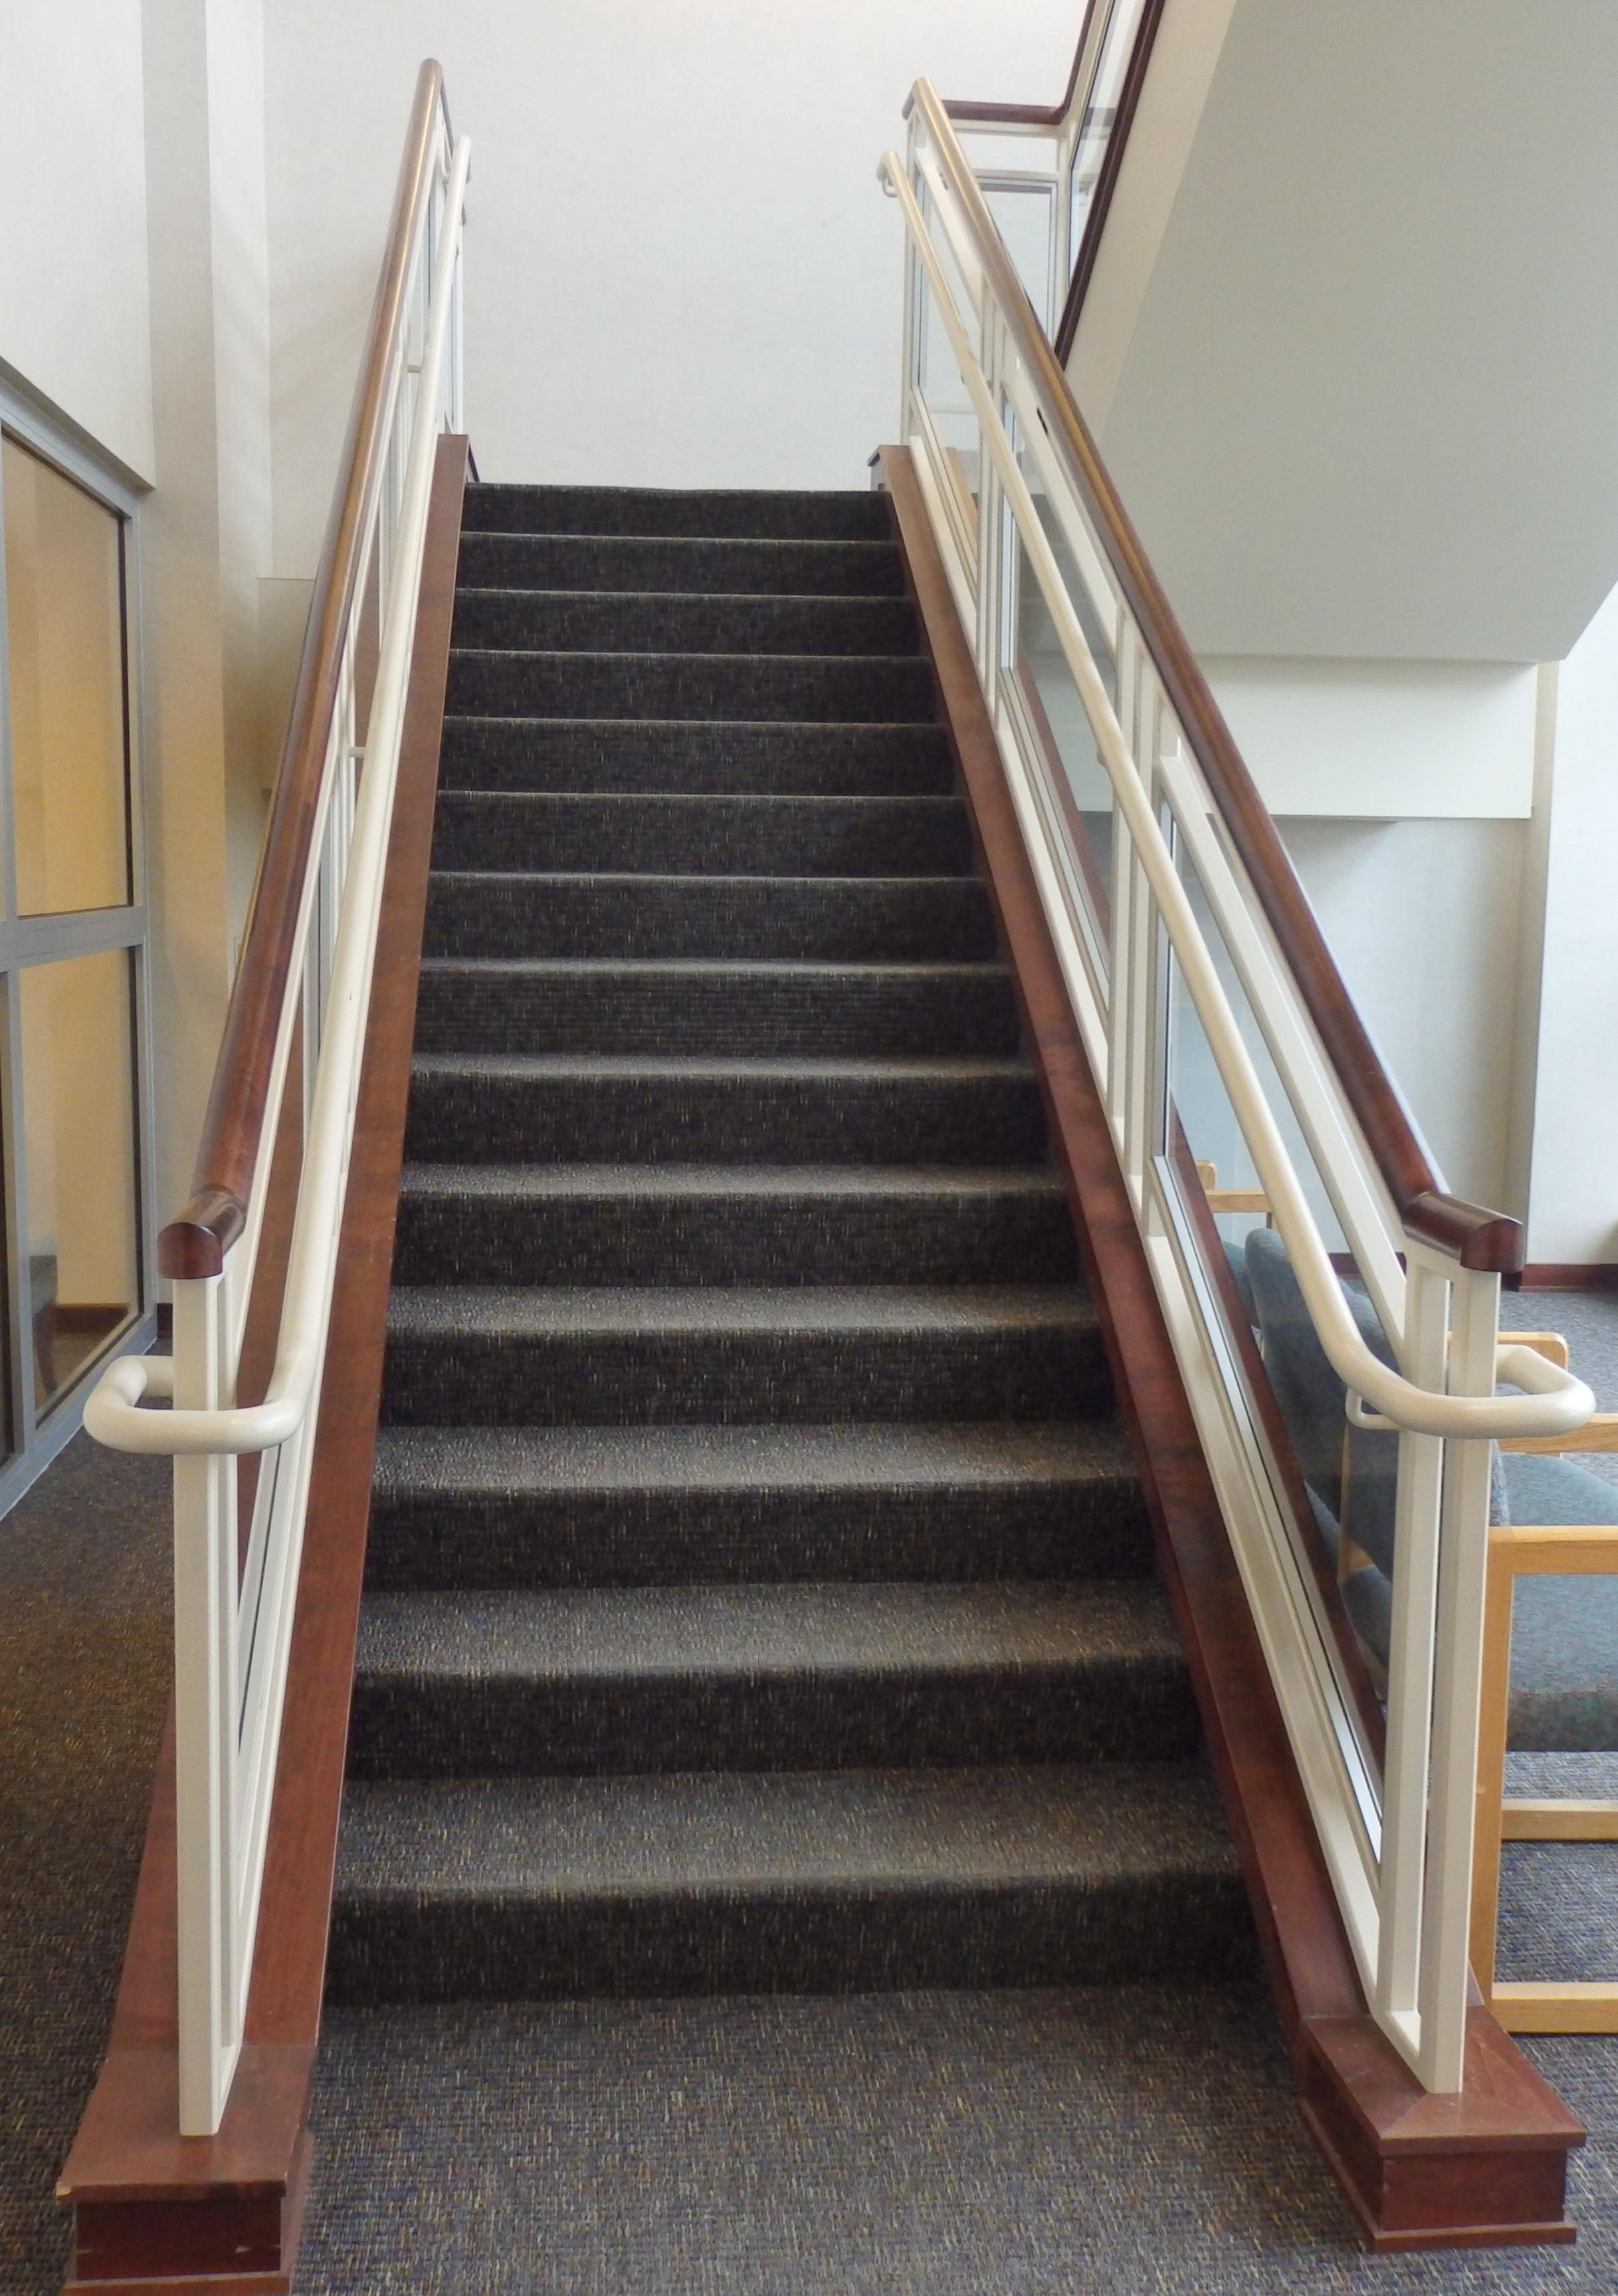stairs_up: (341, 423, 1350, 2020)
